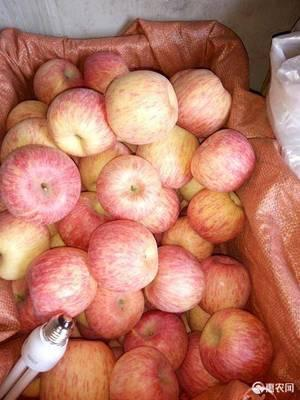apple: (1, 145, 83, 223), (197, 307, 274, 382), (107, 70, 179, 148), (87, 220, 161, 294), (44, 86, 119, 159), (26, 247, 96, 318), (40, 336, 116, 400), (190, 128, 257, 194), (96, 154, 162, 221), (120, 313, 189, 375), (168, 70, 230, 135), (150, 243, 205, 314), (111, 346, 181, 400), (1, 214, 50, 285), (186, 189, 247, 246), (85, 285, 147, 338), (201, 254, 254, 314), (32, 58, 81, 103), (79, 54, 125, 94)
